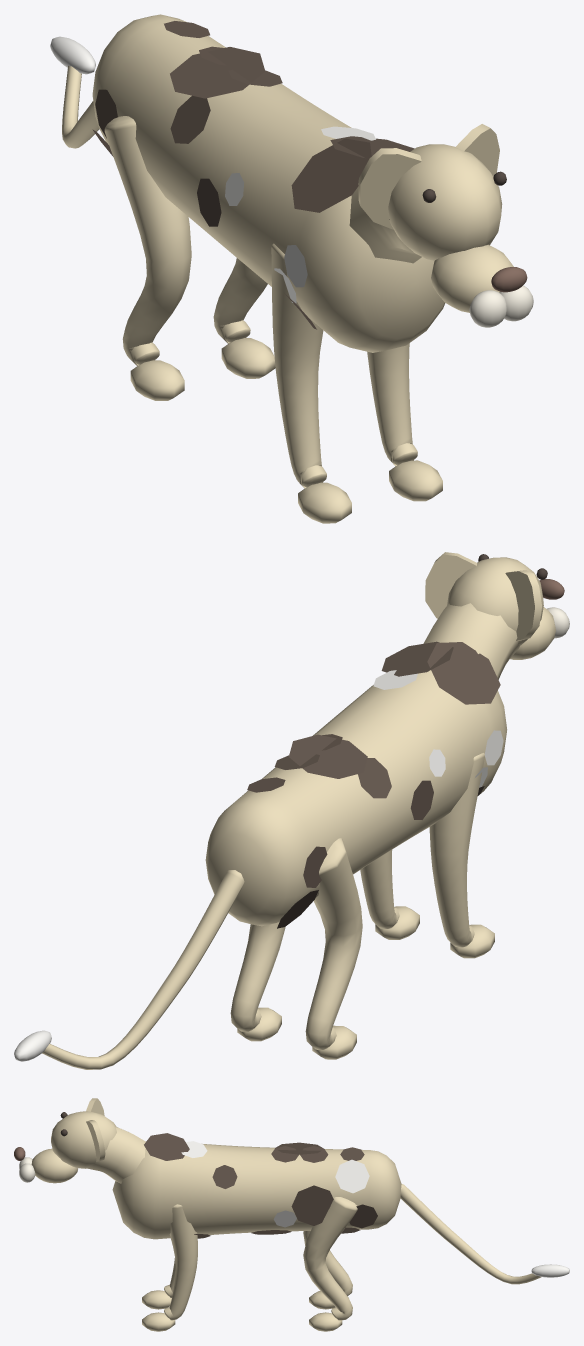
The model's file is savanna-wildlife-african-wild-dog-cb379ff3__6546.glb.
The picture shows the model from 3 angles, top to bottom: view 1: azimuth 30°, elevation 25°; view 2: azimuth 150°, elevation 25°; view 3: azimuth 270°, elevation 25°; orthographic projection. The views are drawn at different scales.
Parts seen in each view (by area): view 1: african-wild-dog; view 2: african-wild-dog; view 3: african-wild-dog.
Boxes of the visible parts, box(x1,y1,x2,y2) form: african-wild-dog: box(50, 14, 533, 523); african-wild-dog: box(14, 552, 569, 1069); african-wild-dog: box(14, 1098, 569, 1331).
Size of the model in its own units: 0.4778 by 1.05 by 2.54.
